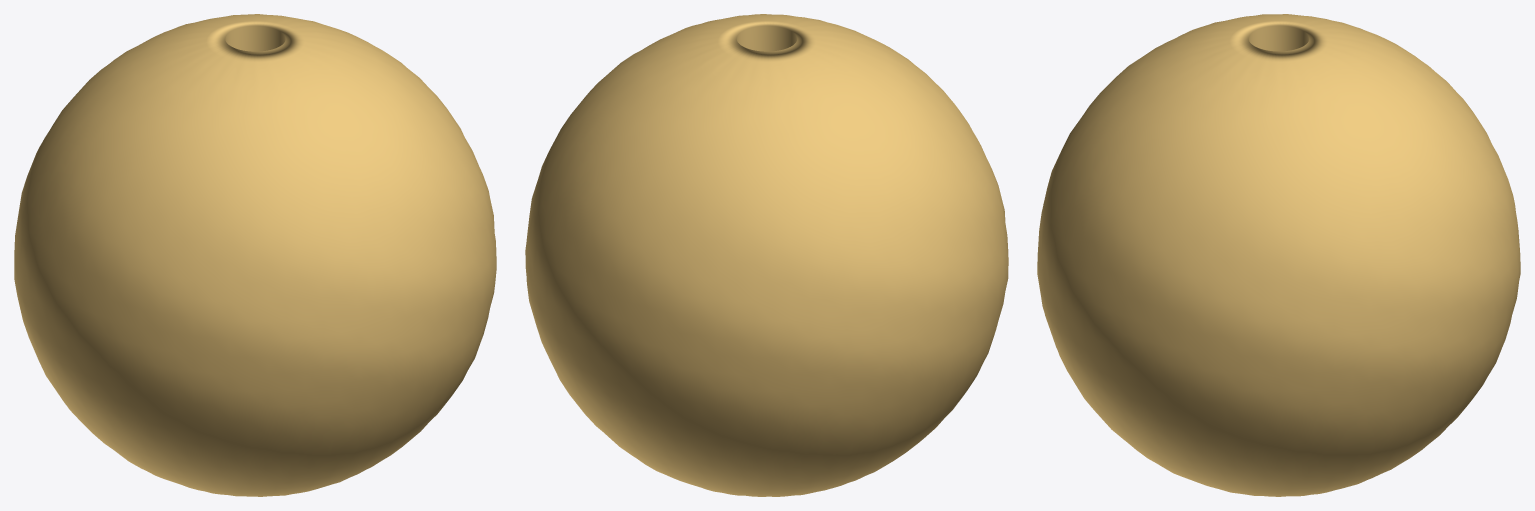
File: spacer-02-gold-8mm.glb
3 renders of one model, left to right at view 1: azimuth 30°, elevation 25°; view 2: azimuth 150°, elevation 25°; view 3: azimuth 270°, elevation 25°, orthographic.
Parts seen in each view (by area): view 1: Spacer with through bore.002; view 2: Spacer with through bore.002; view 3: Spacer with through bore.002.
Boxes of the visible parts, x1,y1,x2,y2 form: Spacer with through bore.002: (14,14,496,496); Spacer with through bore.002: (525,14,1008,496); Spacer with through bore.002: (1037,14,1520,496).
Bounding box in the file's own units: 0.00798 × 0.00792 × 0.008.
